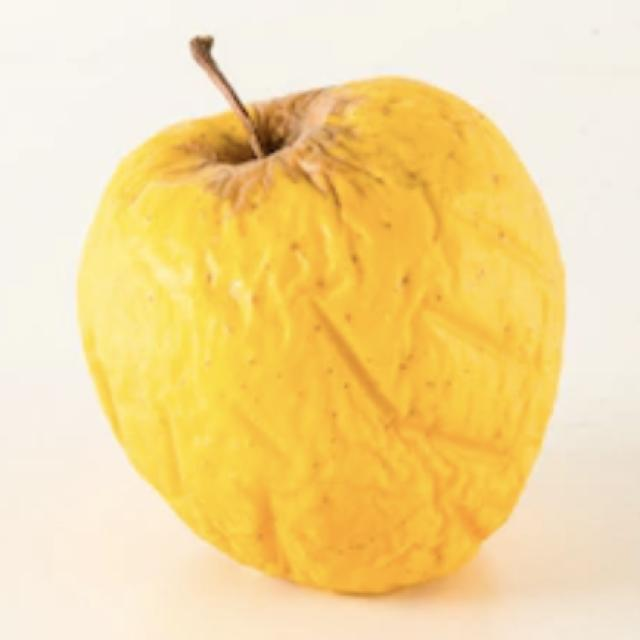apple: (79, 38, 564, 592)
